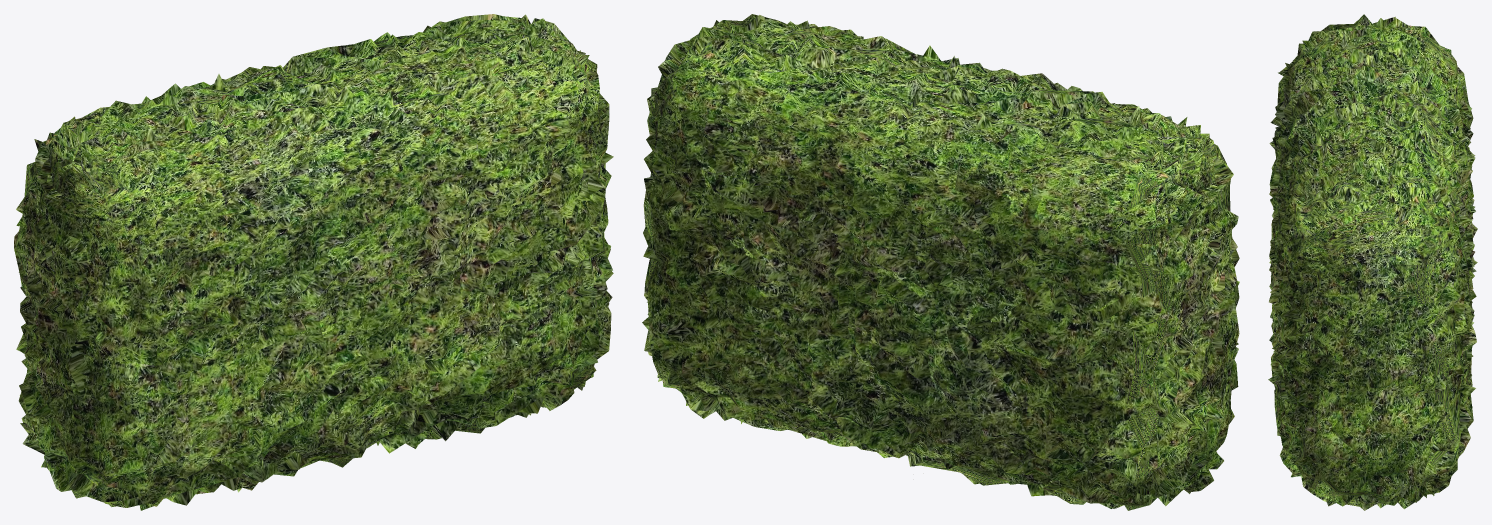
Rendered from groen.glb.
3 renders of one model, left to right at view 1: azimuth 30°, elevation 25°; view 2: azimuth 150°, elevation 25°; view 3: azimuth 270°, elevation 25°, orthographic. The views are drawn at different scales.
Visible parts, largest first — view 1: heg, heg-ver; view 2: heg, heg-ver; view 3: heg, heg-ver.
Boxes of the visible parts, bbox=[...] form: heg: bbox=[14, 14, 613, 510]; heg-ver: bbox=[16, 14, 605, 507]; heg: bbox=[642, 14, 1239, 510]; heg-ver: bbox=[643, 26, 1239, 510]; heg: bbox=[1268, 14, 1477, 510]; heg-ver: bbox=[1271, 14, 1471, 506].
Size of the model in its own units: 155 by 102 by 59.38.
4 materials, 4 textured.
